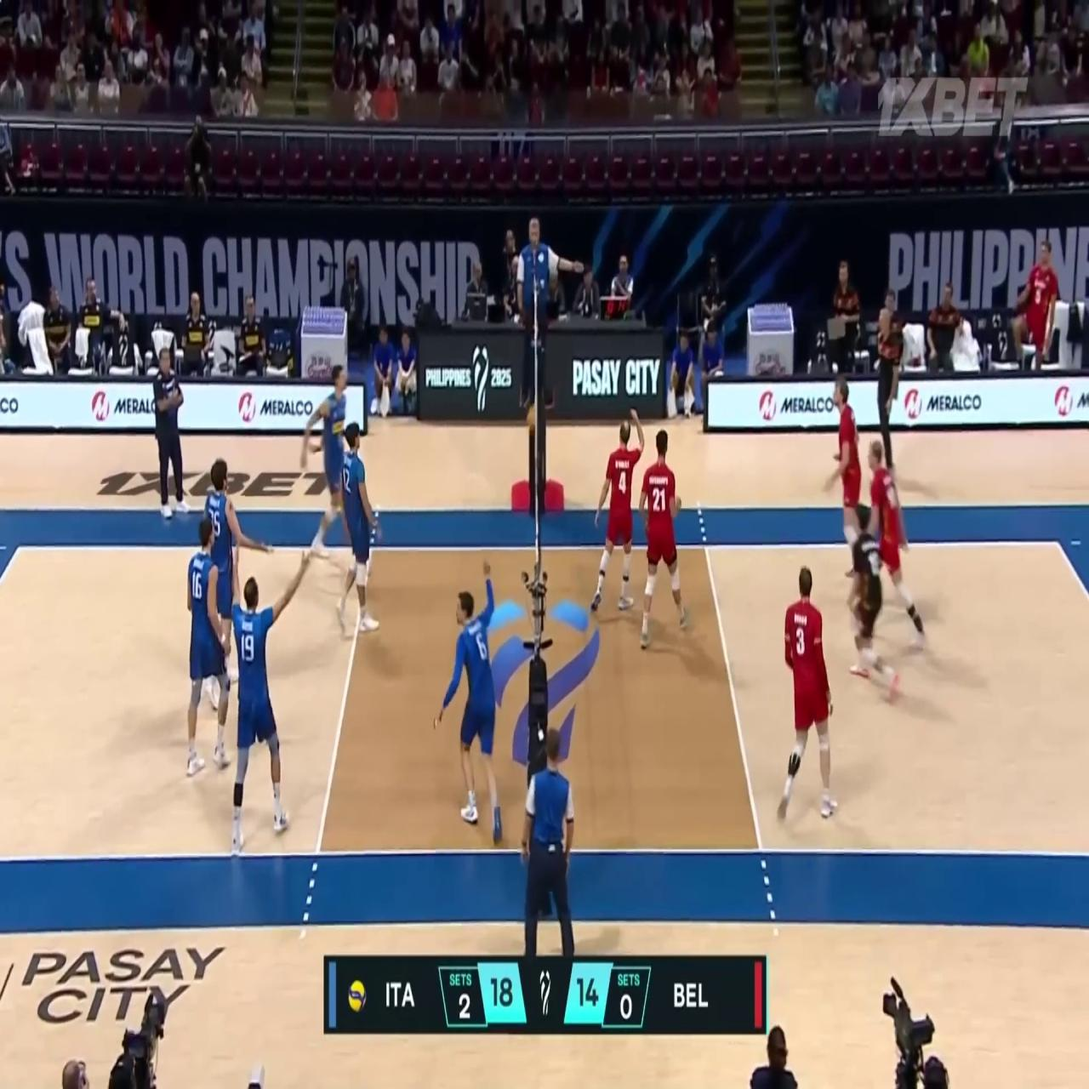ball: (527, 405, 535, 433)
